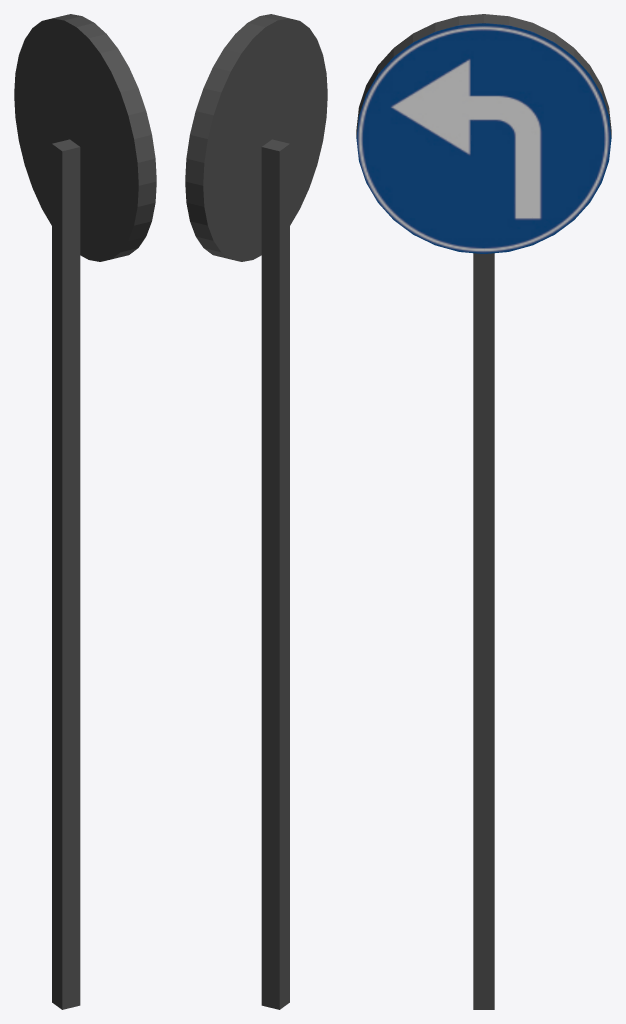
File: ileri_sol_mecburi_levha.dae
3 views of the same model, side by side, from view 1: azimuth 30°, elevation 25°; view 2: azimuth 150°, elevation 25°; view 3: azimuth 270°, elevation 25° (orthographic). The views are drawn at different scales.
Visible parts, largest first — view 1: Cube.004, Cube.001; view 2: Cube.004, Cube.001; view 3: Cube.001, Cube.004.
Boxes of the visible parts, left/top/right/bottom form: Cube.004: left=52, top=139, right=80, bottom=1009; Cube.001: left=14, top=14, right=156, bottom=261; Cube.004: left=261, top=139, right=289, bottom=1009; Cube.001: left=185, top=14, right=327, bottom=261; Cube.001: left=356, top=14, right=611, bottom=253; Cube.004: left=473, top=253, right=494, bottom=1009.
Bounding box in the file's own units: 0.1039 × 0.6 × 2.59.
Materials: 2 (1 with a texture image).
